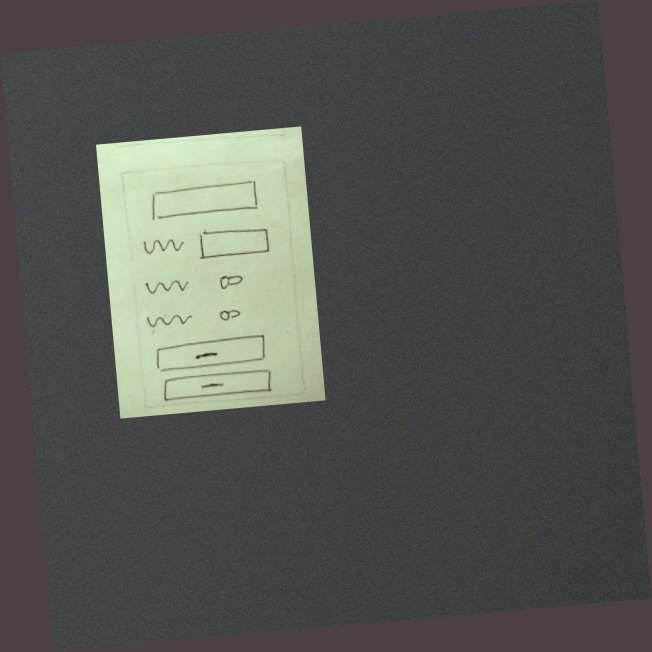button: (149, 331, 274, 374), (158, 366, 281, 404)
switch: (211, 269, 248, 292), (212, 301, 244, 325)
text: (140, 306, 195, 333), (140, 272, 192, 299), (135, 231, 185, 259)
text_input: (147, 176, 262, 220), (190, 219, 274, 264)
